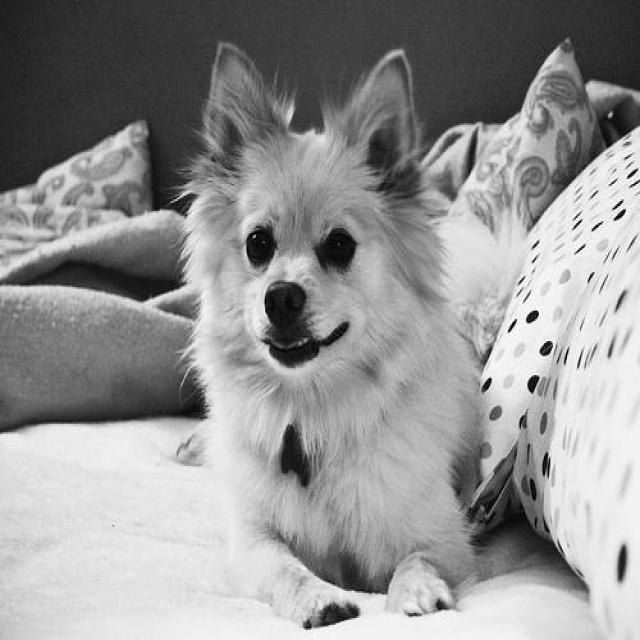laying down: (169, 34, 492, 636)
